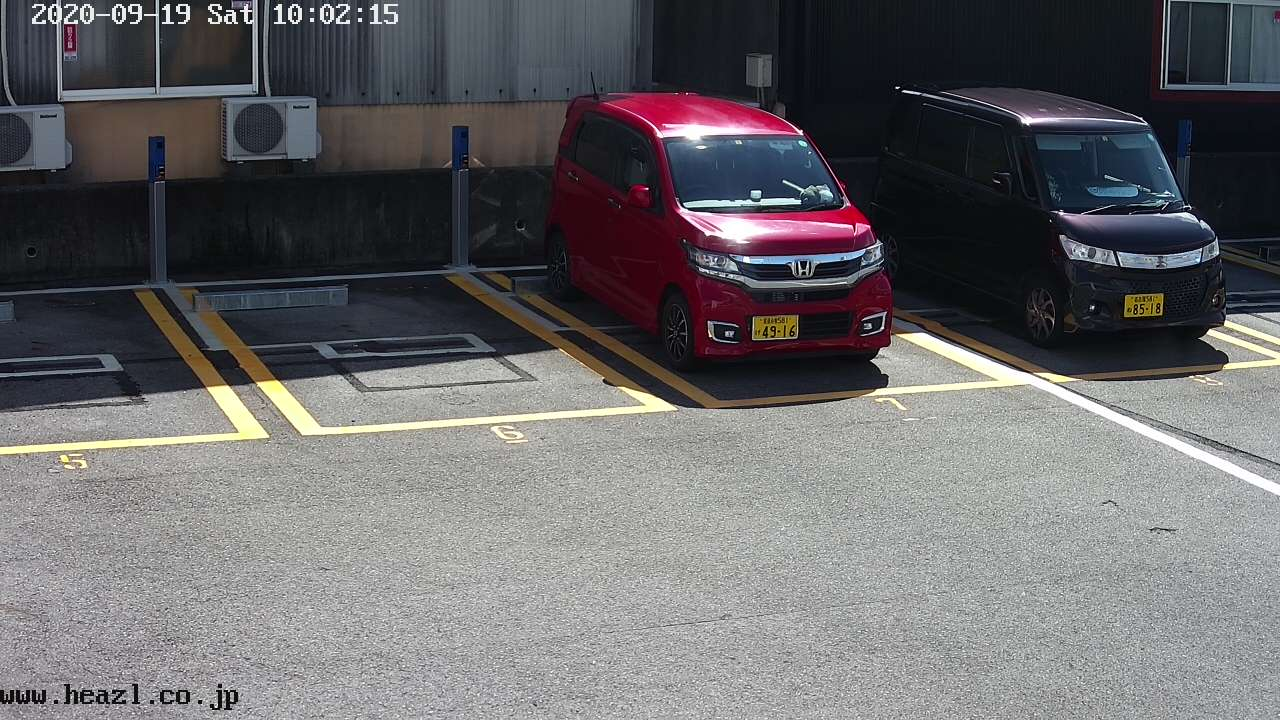number_plate: (755, 315, 801, 342), (1123, 294, 1166, 317)
